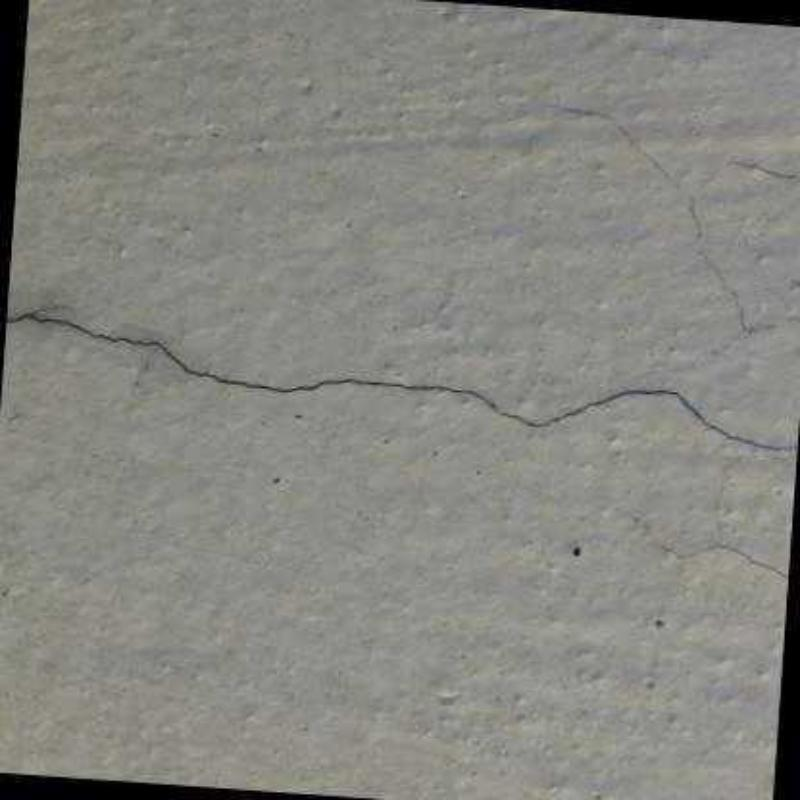pothole: (4, 313, 798, 453), (688, 194, 783, 352), (554, 104, 692, 188), (662, 544, 788, 579), (727, 152, 798, 179)
